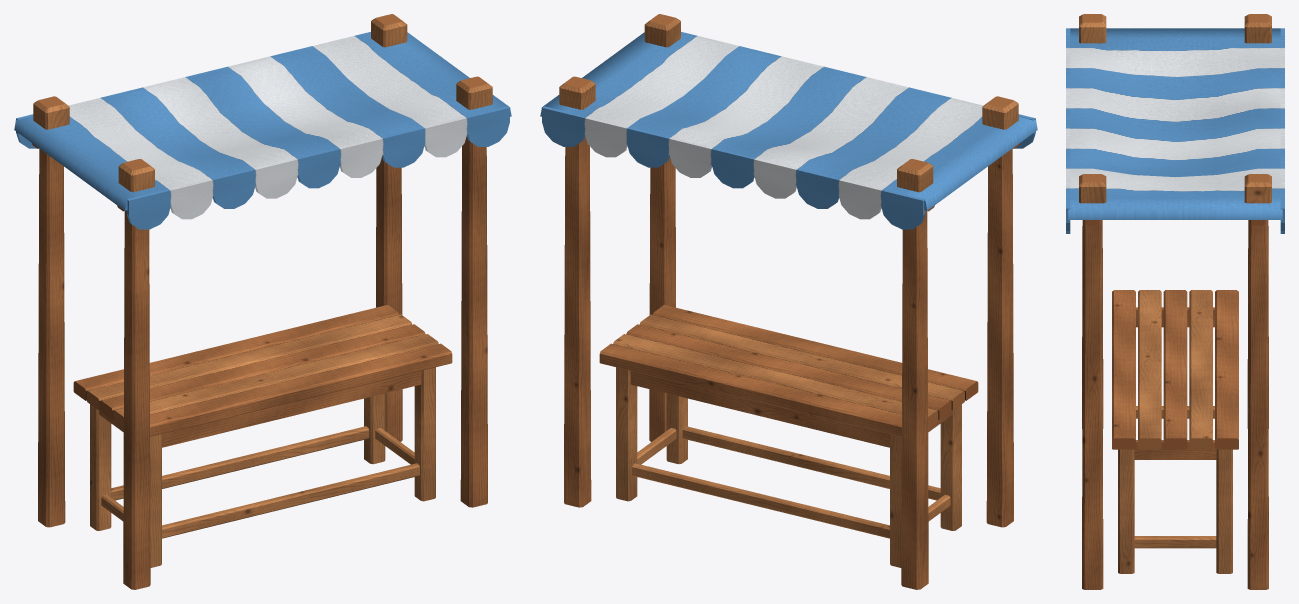
File: FMS_Stall_Table_Medium_Canopy.fbx
3 renders of one model, left to right at view 1: azimuth 30°, elevation 25°; view 2: azimuth 150°, elevation 25°; view 3: azimuth 270°, elevation 25°, orthographic. The views are drawn at different scales.
Visible parts, largest first — view 1: item_stalls_table_medium_canopy; view 2: item_stalls_table_medium_canopy; view 3: item_stalls_table_medium_canopy.
Boxes of the visible parts, left/top/right/bottom form: item_stalls_table_medium_canopy: left=14, top=14, right=511, bottom=589; item_stalls_table_medium_canopy: left=540, top=14, right=1037, bottom=589; item_stalls_table_medium_canopy: left=1066, top=14, right=1284, bottom=589.
Bounding box in the file's own units: 2.22 × 2.31 × 1.12.
Materials: 1 (1 with a texture image).
